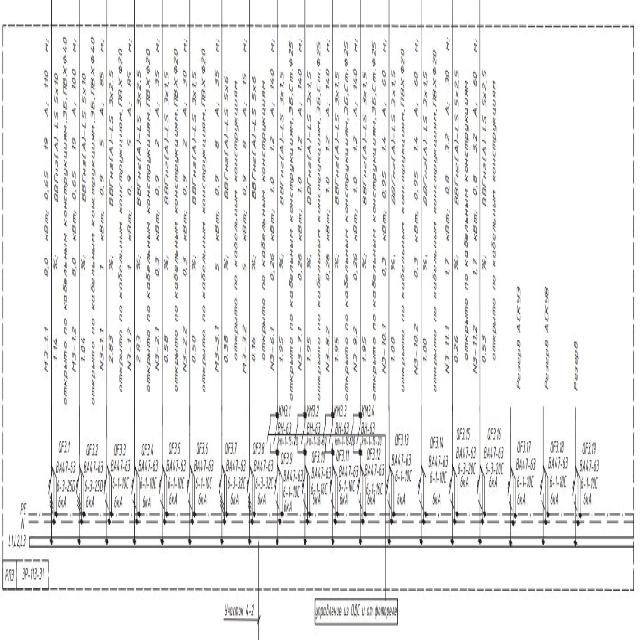-: (391, 452, 413, 509), (547, 455, 569, 511), (110, 457, 132, 512), (192, 457, 214, 512), (428, 453, 449, 510), (579, 458, 600, 514), (83, 458, 104, 514), (226, 458, 247, 514), (515, 455, 537, 508), (282, 465, 303, 520), (138, 457, 159, 512), (253, 456, 274, 511), (55, 456, 76, 510), (165, 458, 186, 512), (483, 444, 505, 490), (456, 444, 477, 490), (338, 464, 359, 509), (364, 462, 384, 508), (312, 462, 332, 508), (5, 564, 45, 584), (361, 418, 382, 448), (334, 419, 355, 448), (277, 420, 298, 449), (306, 420, 326, 449)
KM: (294, 422, 307, 451), (349, 418, 361, 448), (266, 424, 278, 454), (322, 421, 334, 450)
QF: (538, 472, 546, 513), (448, 471, 456, 512), (416, 472, 424, 513), (356, 471, 364, 512), (130, 469, 138, 510), (102, 470, 110, 510), (75, 472, 82, 513), (47, 472, 54, 513), (506, 472, 513, 513), (385, 469, 392, 510), (158, 471, 165, 512), (475, 470, 482, 510), (218, 473, 225, 513), (245, 475, 252, 515), (571, 475, 578, 515), (328, 471, 335, 511), (301, 471, 308, 511), (273, 471, 280, 511), (185, 470, 192, 510)
